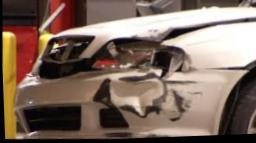Bonnet: (50, 7, 256, 43)
Bumper: (12, 72, 247, 139)
Light: (85, 40, 184, 76)
